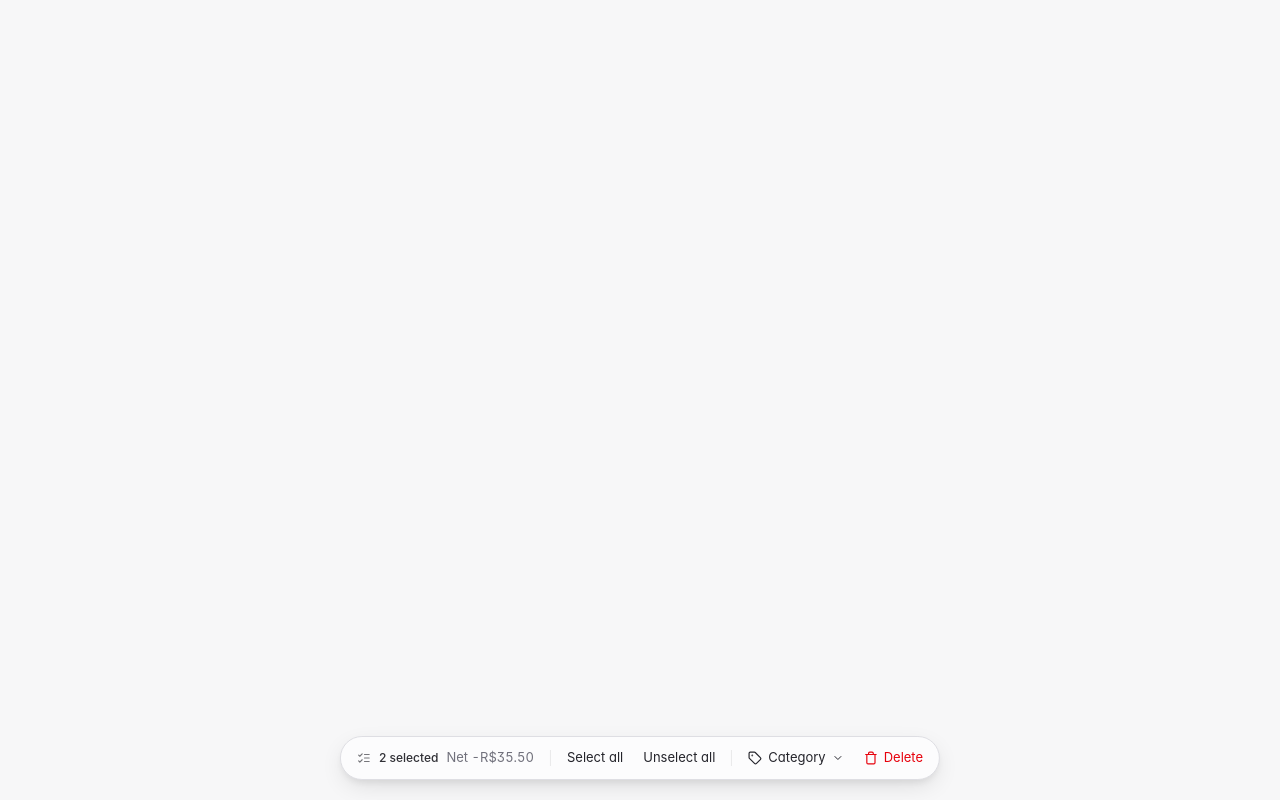
Scenario: TransactionBulkActions › keeps category choices available after a failure and supports None
Click the button with aria-label "Category for selected transactions" at (796, 758), box [740, 744, 852, 772]
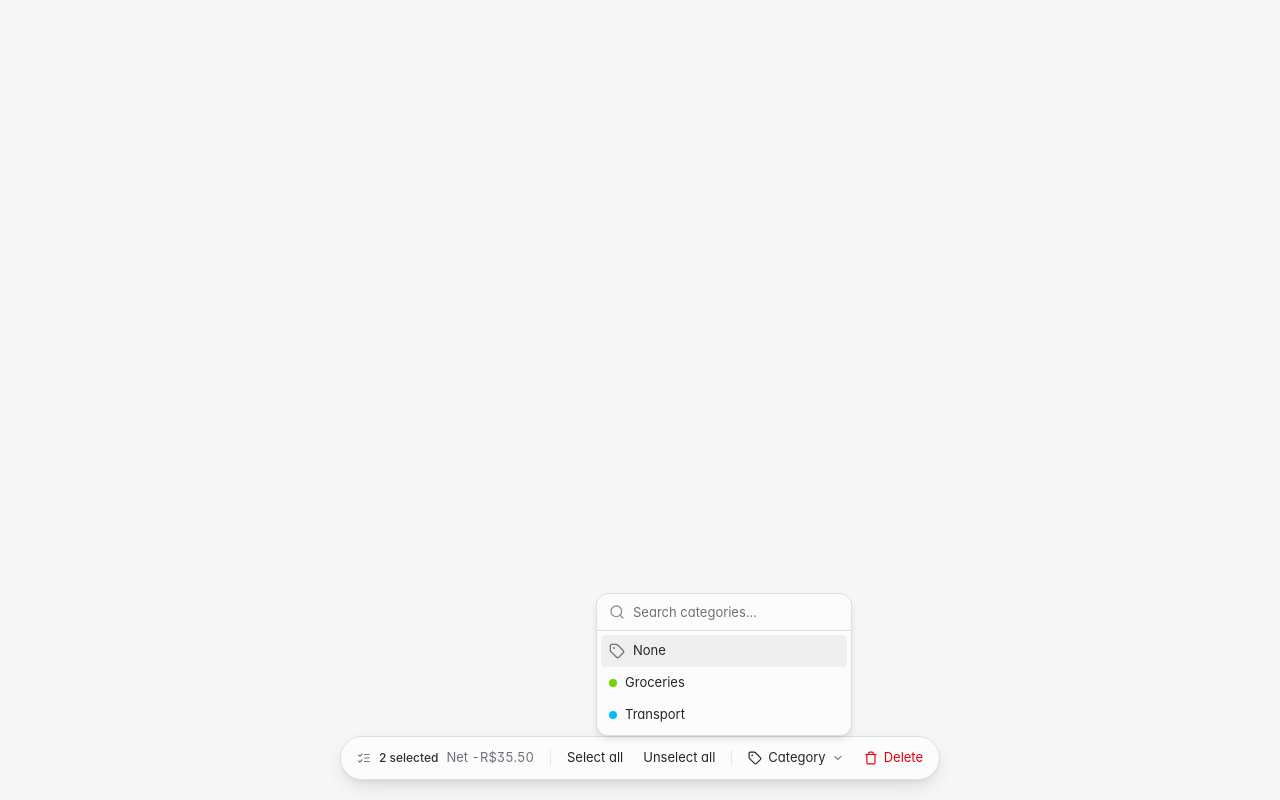
Click the option "Groceries" at (647, 682), box [609, 674, 685, 690]
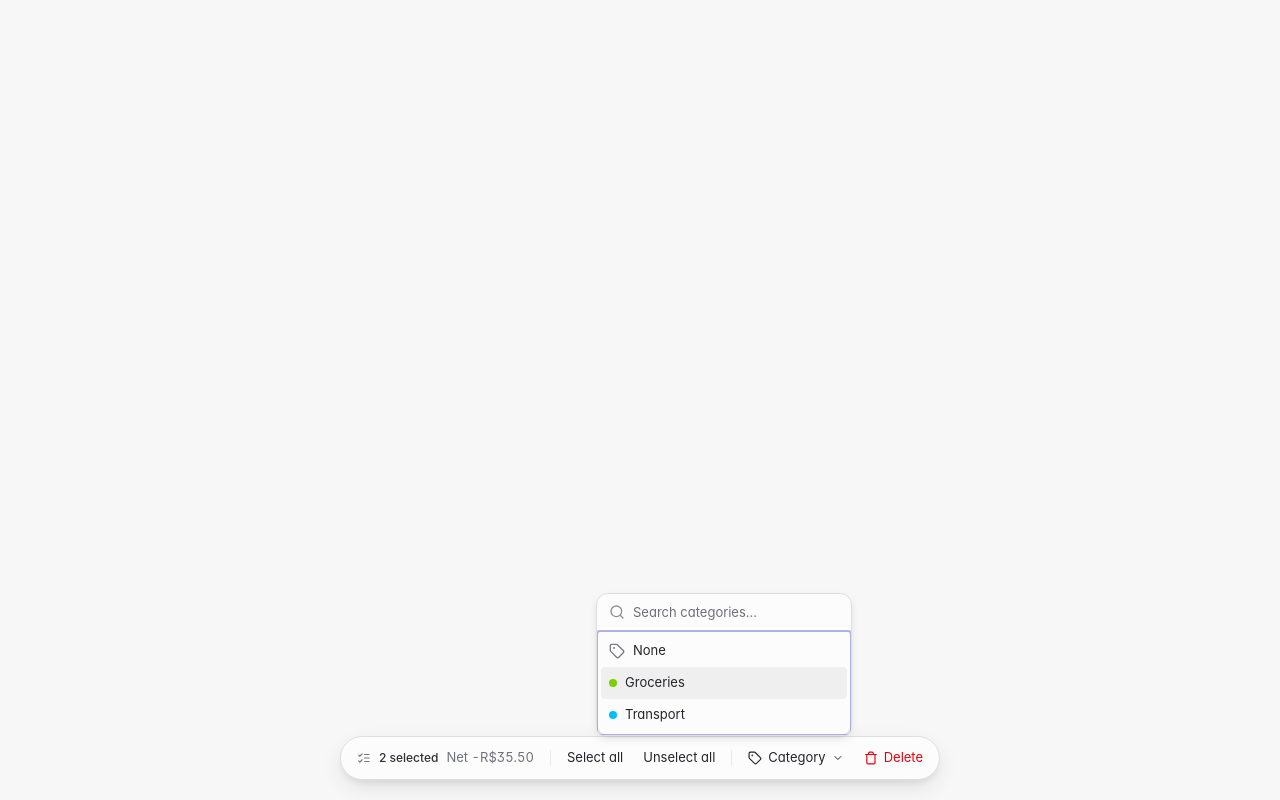
Check: the message shows "2 selected", box [379, 750, 438, 765]
Check: the dropdown is enabled, box [633, 594, 839, 630]
Click the option "None" at (637, 651), box [609, 642, 666, 659]
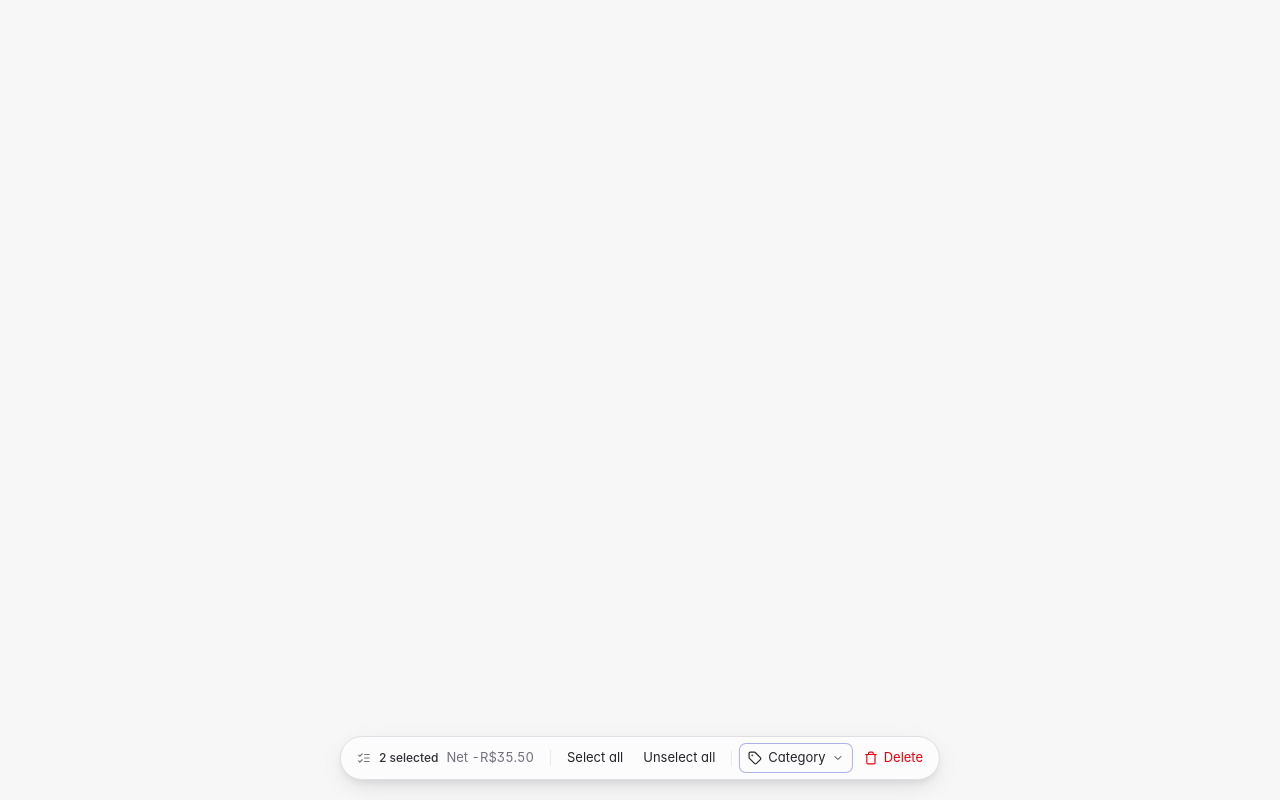
Check: the dialog is gone
